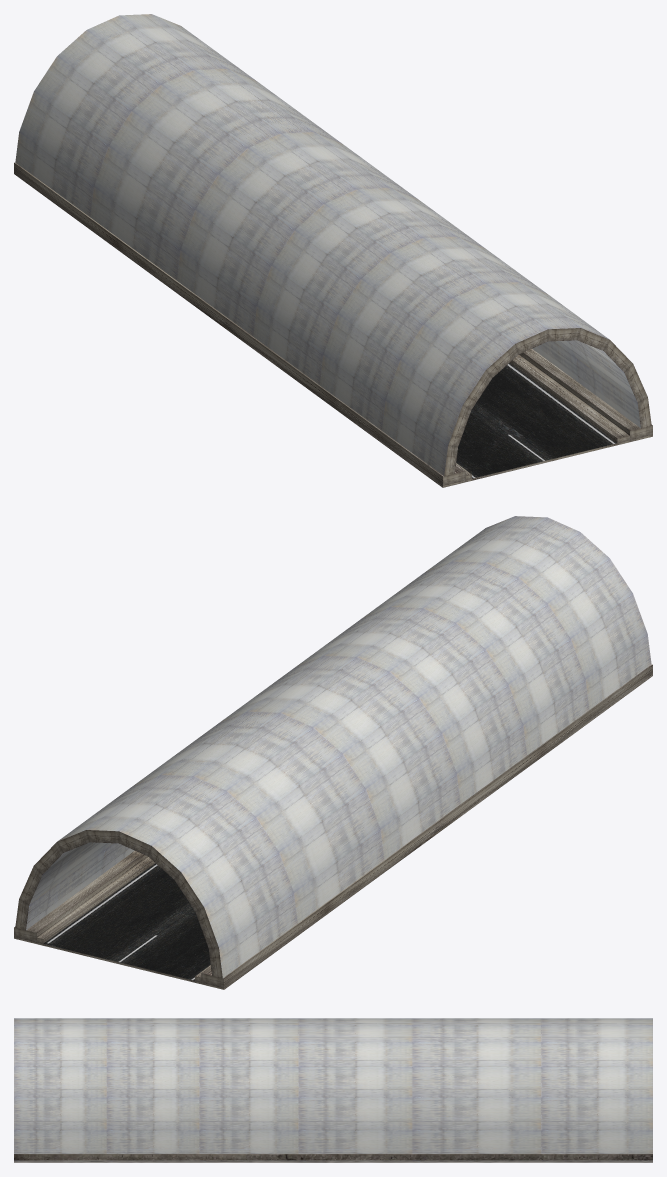
File: tunnel.fbx
The picture shows the model from 3 angles, top to bottom: view 1: azimuth 30°, elevation 25°; view 2: azimuth 150°, elevation 25°; view 3: azimuth 270°, elevation 25°; orthographic projection. The views are drawn at different scales.
Visible parts, largest first — view 1: Tunnel, Road; view 2: Tunnel, Road; view 3: Tunnel, Road.
Boxes of the visible parts, left/top/right/bottom form: Tunnel: left=15, top=14, right=651, bottom=476; Road: left=14, top=162, right=652, bottom=487; Tunnel: left=15, top=516, right=651, bottom=978; Road: left=14, top=664, right=652, bottom=989; Tunnel: left=14, top=1018, right=652, bottom=1161; Road: left=14, top=1154, right=652, bottom=1162.
Size of the model in its own units: 30.18 by 18.27 by 107.
Materials: 3 (3 with a texture image).
